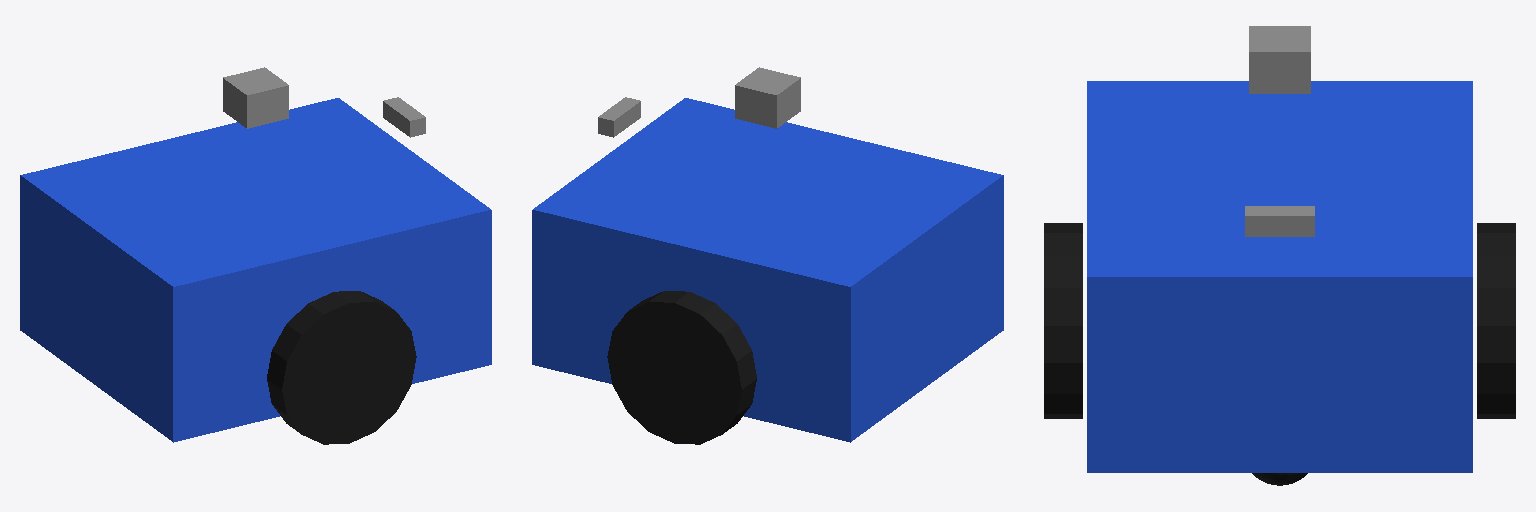
robot.urdf — tier1_robot:
<?xml version="1.0"?>
<!-- Small differential-drive robot for the mock scene (fixtures/tier1_scene.rviz).
     base_link sits on the ground; the mocks publish base_link → wheel/caster/laser/
     livox_frame/camera_link on /tf_static (what robot_state_publisher would do). -->
<robot name="tier1_robot">
  <material name="body_blue"><color rgba="0.2 0.4 0.9 1.0"/></material>
  <material name="wheel_dark"><color rgba="0.15 0.15 0.15 1.0"/></material>
  <material name="sensor_grey"><color rgba="0.6 0.6 0.6 1.0"/></material>

  <link name="base_footprint"/>

  <link name="base_link">
    <visual>
      <origin xyz="0 0 0.19" rpy="0 0 0"/>
      <geometry><mesh filename="package://webrvizlite_fixtures/robot_description/meshes/body.stl"/></geometry>
      <material name="body_blue"/>
    </visual>
    <collision>
      <origin xyz="0 0 0.19" rpy="0 0 0"/>
      <geometry><box size="0.6 0.5 0.28"/></geometry>
    </collision>
    <inertial>
      <origin xyz="0 0 0.19" rpy="0 0 0"/>
      <mass value="12.0"/>
      <inertia ixx="0.33" ixy="0" ixz="0" iyy="0.44" iyz="0" izz="0.61"/>
    </inertial>
  </link>

  <link name="wheel_left_link">
    <visual>
      <origin xyz="0 0 0" rpy="1.5707963 0 0"/>
      <geometry><mesh filename="package://webrvizlite_fixtures/robot_description/meshes/wheel.stl"/></geometry>
      <material name="wheel_dark"/>
    </visual>
    <collision>
      <origin xyz="0 0 0" rpy="1.5707963 0 0"/>
      <geometry><cylinder radius="0.127" length="0.05"/></geometry>
    </collision>
    <inertial><mass value="0.8"/><inertia ixx="0.004" ixy="0" ixz="0" iyy="0.004" iyz="0" izz="0.006"/></inertial>
  </link>

  <link name="wheel_right_link">
    <visual>
      <origin xyz="0 0 0" rpy="1.5707963 0 0"/>
      <geometry><mesh filename="package://webrvizlite_fixtures/robot_description/meshes/wheel.stl"/></geometry>
      <material name="wheel_dark"/>
    </visual>
    <collision>
      <origin xyz="0 0 0" rpy="1.5707963 0 0"/>
      <geometry><cylinder radius="0.127" length="0.05"/></geometry>
    </collision>
    <inertial><mass value="0.8"/><inertia ixx="0.004" ixy="0" ixz="0" iyy="0.004" iyz="0" izz="0.006"/></inertial>
  </link>

  <link name="caster_front_link">
    <visual>
      <geometry><sphere radius="0.05"/></geometry>
      <material name="wheel_dark"/>
    </visual>
    <collision><geometry><sphere radius="0.05"/></geometry></collision>
    <inertial><mass value="0.2"/><inertia ixx="0.0002" ixy="0" ixz="0" iyy="0.0002" iyz="0" izz="0.0002"/></inertial>
  </link>

  <link name="laser">
    <visual>
      <geometry><cylinder radius="0.05" length="0.04"/></geometry>
      <material name="sensor_grey"/>
    </visual>
  </link>

  <link name="livox_frame">
    <visual>
      <geometry><box size="0.08 0.08 0.06"/></geometry>
      <material name="sensor_grey"/>
    </visual>
  </link>

  <link name="camera_link">
    <visual>
      <geometry><box size="0.03 0.09 0.03"/></geometry>
      <material name="sensor_grey"/>
    </visual>
  </link>
  <link name="camera_optical_frame"/>

  <joint name="base_joint" type="fixed">
    <parent link="base_footprint"/><child link="base_link"/>
    <origin xyz="0 0 0" rpy="0 0 0"/>
  </joint>
  <joint name="wheel_left_joint" type="continuous">
    <parent link="base_link"/><child link="wheel_left_link"/>
    <origin xyz="0 0.28 0.127" rpy="0 0 0"/>
    <axis xyz="0 1 0"/>
  </joint>
  <joint name="wheel_right_joint" type="continuous">
    <parent link="base_link"/><child link="wheel_right_link"/>
    <origin xyz="0 -0.28 0.127" rpy="0 0 0"/>
    <axis xyz="0 1 0"/>
  </joint>
  <joint name="caster_front_joint" type="fixed">
    <parent link="base_link"/><child link="caster_front_link"/>
    <origin xyz="0.22 0 0.05" rpy="0 0 0"/>
  </joint>
  <joint name="laser_joint" type="fixed">
    <parent link="base_link"/><child link="laser"/>
    <origin xyz="0.2 0 0.3" rpy="0 0 0"/>
  </joint>
  <joint name="livox_joint" type="fixed">
    <parent link="base_link"/><child link="livox_frame"/>
    <origin xyz="0 0 0.5" rpy="0 0 0"/>
  </joint>
  <joint name="camera_joint" type="fixed">
    <parent link="base_link"/><child link="camera_link"/>
    <origin xyz="0.28 0 0.4" rpy="0 0 0"/>
  </joint>
  <joint name="camera_optical_joint" type="fixed">
    <parent link="camera_link"/><child link="camera_optical_frame"/>
    <origin xyz="0 0 0" rpy="-1.5707963 0 -1.5707963"/>
  </joint>
</robot>

--- What the picture shows (computed from the rendered views, not written in the file) ---
Views: 3 orthographic renders of the robot side by side, from view 1: azimuth 30°, elevation 25°; view 2: azimuth 150°, elevation 25°; view 3: azimuth 270°, elevation 25°.
Robot: tier1_robot — 9 links, 8 joints (2 continuous, 6 fixed); root link base_footprint; default pose: every joint at zero.
Visible links, largest first — view 1: base_link, wheel_right_link, livox_frame, camera_link; view 2: base_link, wheel_left_link, livox_frame, camera_link; view 3: base_link, wheel_left_link, wheel_right_link, livox_frame, camera_link.
Link boxes in pixels (box(x1,y1,x2,y2)): base_link: box(20, 98, 491, 442); wheel_right_link: box(267, 291, 416, 444); livox_frame: box(223, 67, 288, 128); camera_link: box(383, 97, 425, 137); base_link: box(532, 98, 1003, 442); wheel_left_link: box(607, 291, 756, 444); livox_frame: box(735, 67, 800, 128); camera_link: box(598, 97, 640, 137); base_link: box(1087, 81, 1472, 472); wheel_left_link: box(1477, 223, 1515, 418); wheel_right_link: box(1044, 223, 1082, 418); livox_frame: box(1249, 26, 1310, 93); camera_link: box(1245, 206, 1314, 236).
Size in the robot's own frame: 0.6 by 0.61 by 0.53 metres.
3 mesh visuals loaded from 2 distinct referenced files (2 binary STL).
